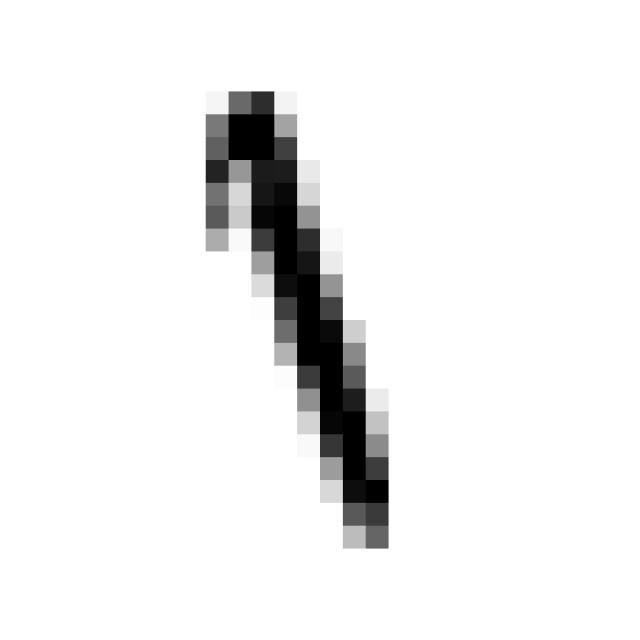1 -one-: (181, 66, 407, 574)
